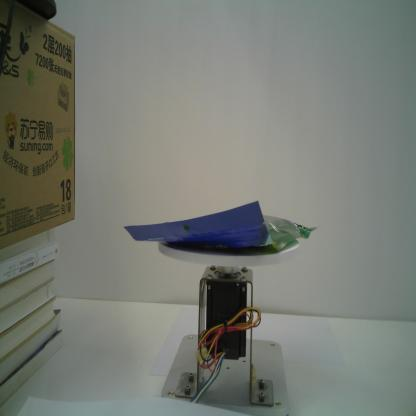Dried Food: (124, 200, 322, 254)
